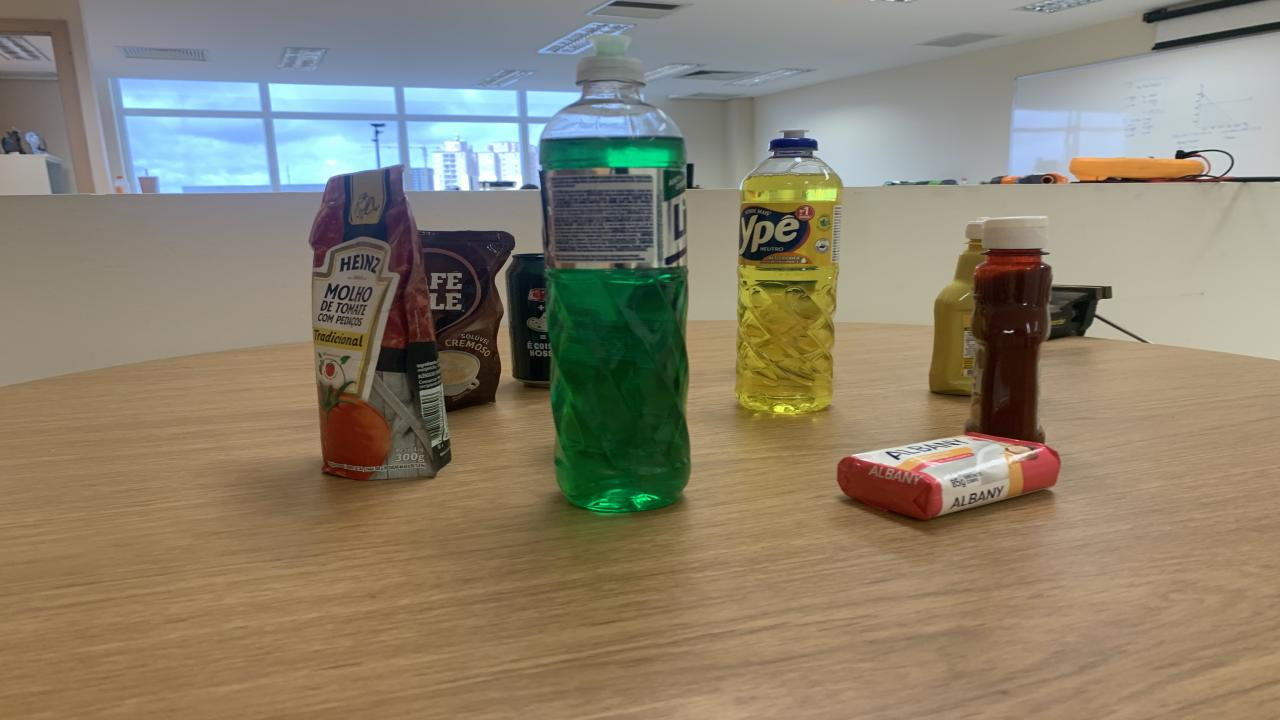Coffee-Pantry_Items: (420, 231, 515, 411)
Detergent-Cleanup_Items: (540, 38, 690, 512), (735, 131, 842, 414)
Guarana_Can-Drinks: (505, 253, 550, 388)
Ketchup-Pantry_Items: (965, 216, 1052, 442)
Mustard-Pantry_Items: (930, 218, 988, 396)
Soap-Cleanup_Items: (838, 435, 1060, 519)
Tomato_Sauce-Pantry_Items: (310, 165, 450, 480)
